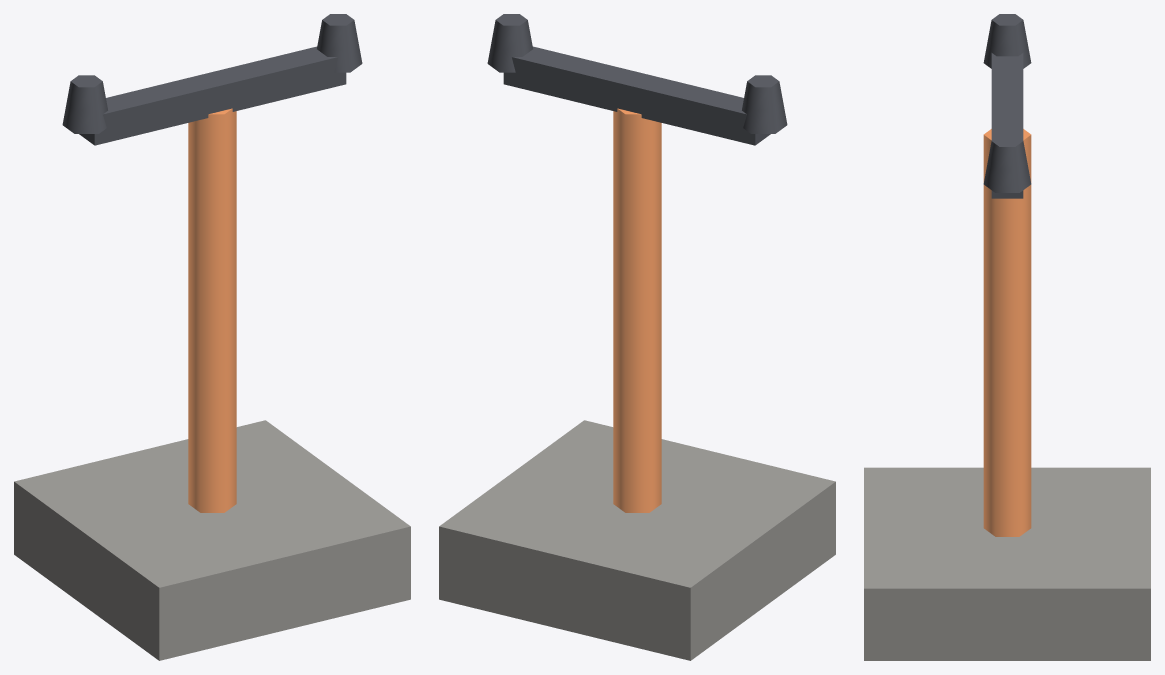
Rendered from build_sprinkler.glb.
3 renders of one model, left to right at view 1: azimuth 30°, elevation 25°; view 2: azimuth 150°, elevation 25°; view 3: azimuth 270°, elevation 25°, orthographic.
Visible parts, largest first — view 1: Baked, _MeshInstance3D_463, _MeshInstance3D_464, _MeshInstance3D_465; view 2: Baked, _MeshInstance3D_463, _MeshInstance3D_464, _MeshInstance3D_465; view 3: Baked, _MeshInstance3D_463, _MeshInstance3D_465, _MeshInstance3D_464.
Part boxes in pixels (left/top/right/bottom): Baked: left=14, top=108, right=410, bottom=660; _MeshInstance3D_463: left=79, top=46, right=346, bottom=145; _MeshInstance3D_464: left=62, top=75, right=107, bottom=133; _MeshInstance3D_465: left=317, top=14, right=362, bottom=72; Baked: left=439, top=108, right=835, bottom=660; _MeshInstance3D_463: left=503, top=46, right=770, bottom=145; _MeshInstance3D_464: left=742, top=75, right=787, bottom=133; _MeshInstance3D_465: left=487, top=14, right=532, bottom=72; Baked: left=864, top=129, right=1150, bottom=660; _MeshInstance3D_463: left=991, top=53, right=1023, bottom=198; _MeshInstance3D_465: left=983, top=135, right=1031, bottom=192; _MeshInstance3D_464: left=983, top=14, right=1031, bottom=68.
Size of the model in its own units: 0.412 by 0.72 by 0.36.
